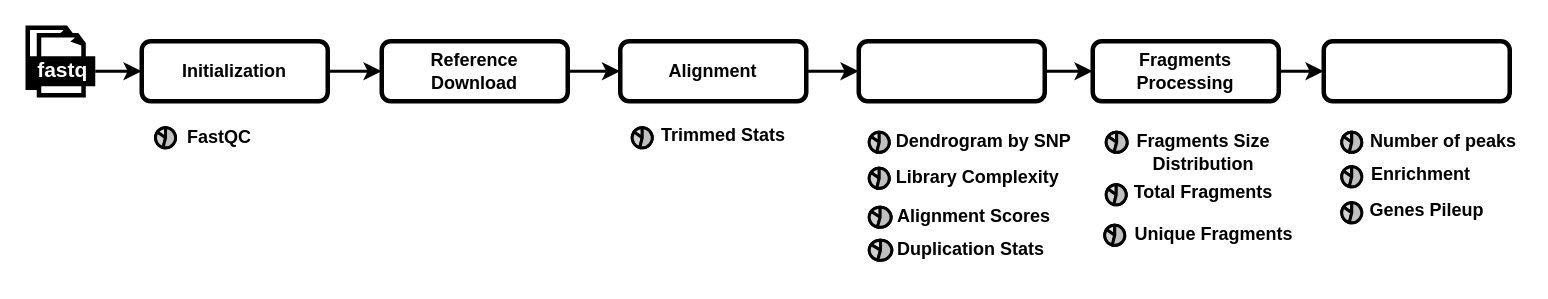
Image size: 1548x299. Some labels were removed from this diagram. The shapes that lost their labels are listed below. From the top down, each one's centre as x and y in pixels, then its label:
At point (951, 70): "Bam Processing".
At point (1416, 70): "Signal Processing".
